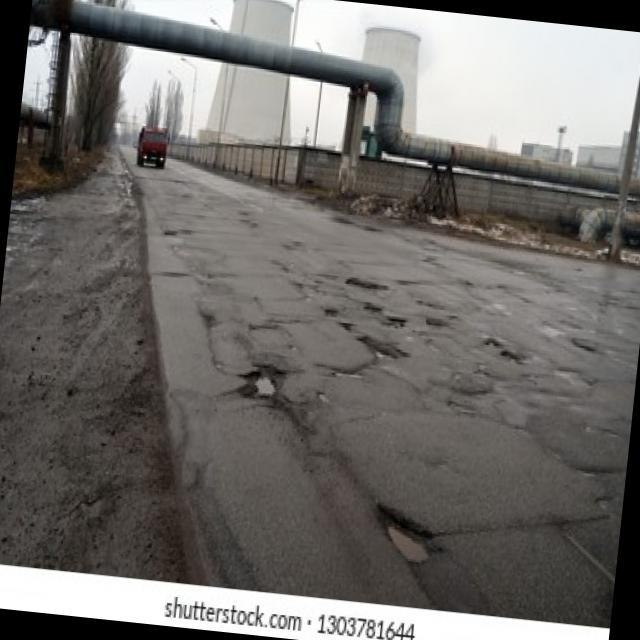Pothole: (369, 502, 435, 566), (242, 359, 286, 404), (354, 333, 399, 363), (344, 274, 390, 293), (497, 346, 520, 360), (364, 302, 382, 318), (387, 314, 405, 326), (322, 306, 338, 318), (484, 335, 498, 348), (338, 320, 352, 332)
